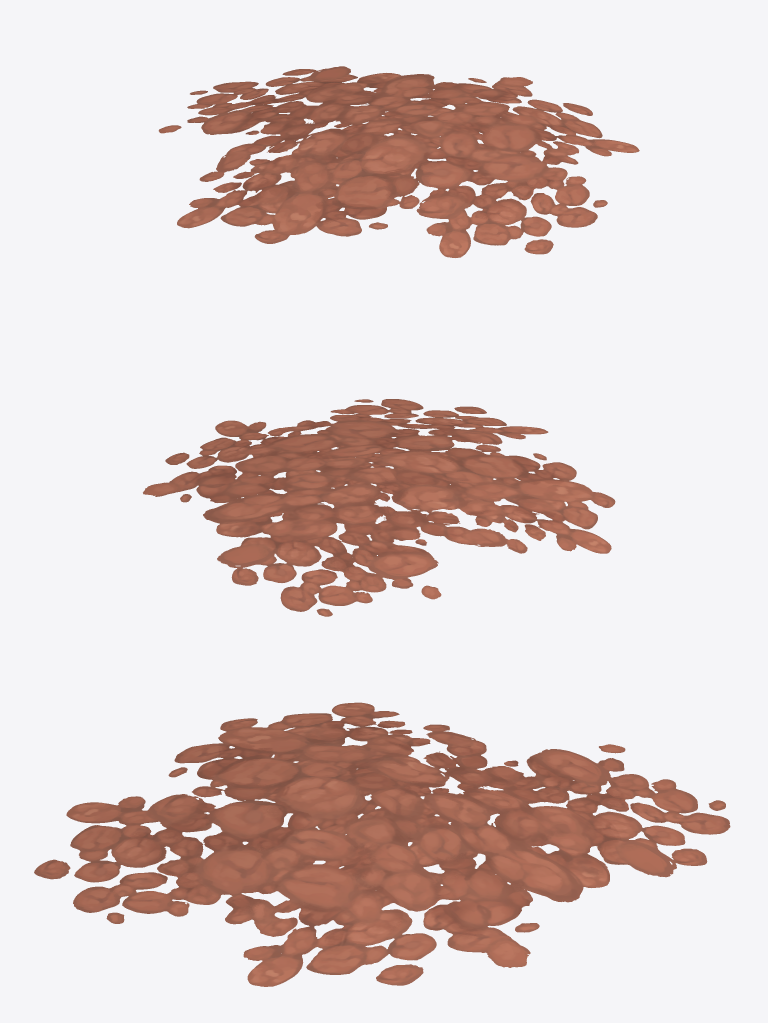
File: PebblesLarge.fbx
3 renders of one model, top to bottom at view 1: azimuth 30°, elevation 25°; view 2: azimuth 150°, elevation 25°; view 3: azimuth 270°, elevation 25°, orthographic. The views are drawn at different scales.
Visible parts, largest first — view 1: Rock_Large; view 2: Rock_Large; view 3: Rock_Large.
Boxes of the visible parts, x1,y1,x2,y2 form: Rock_Large: (158, 66, 639, 257); Rock_Large: (143, 399, 615, 616); Rock_Large: (34, 702, 730, 986).
Size of the model in its own units: 150 by 12.73 by 150.
